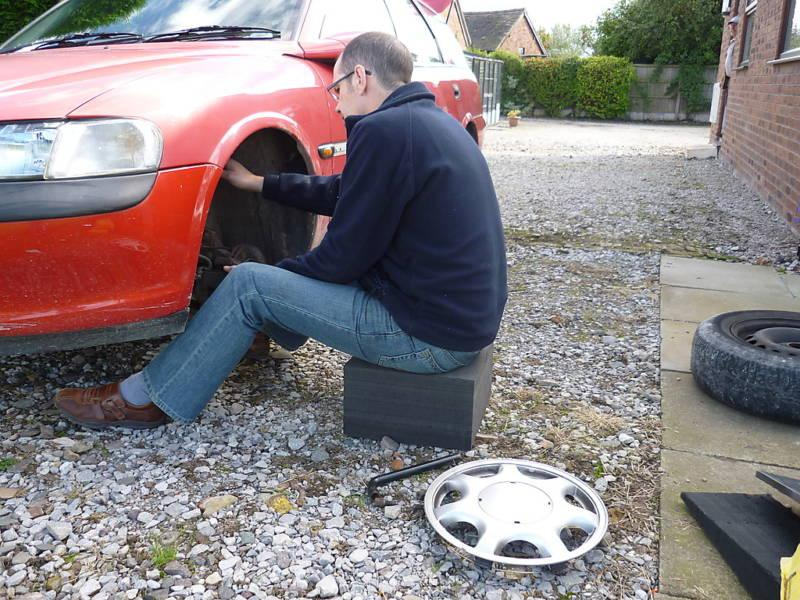person: (48, 28, 514, 431)
